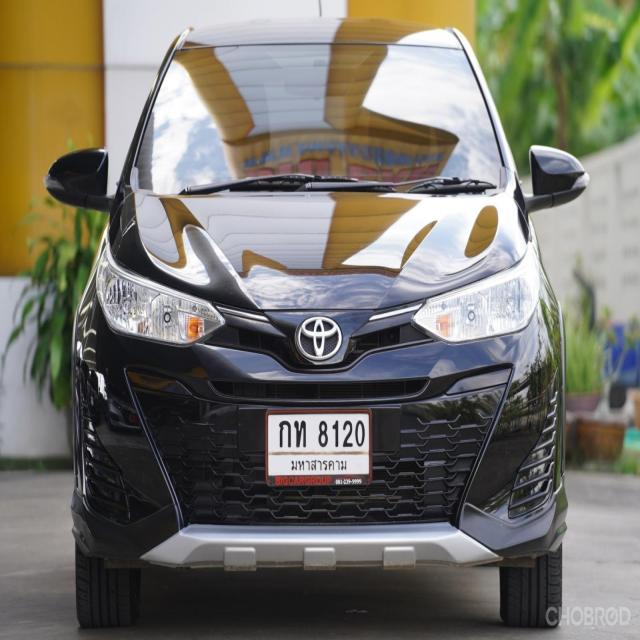license_plate: (264, 404, 374, 490)
